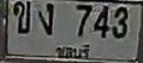3: (111, 6, 127, 37)
4: (93, 5, 108, 36)
7: (75, 4, 91, 36)
A02: (12, 0, 30, 33)
A07: (38, 2, 53, 34)
CBI: (55, 41, 93, 61)
